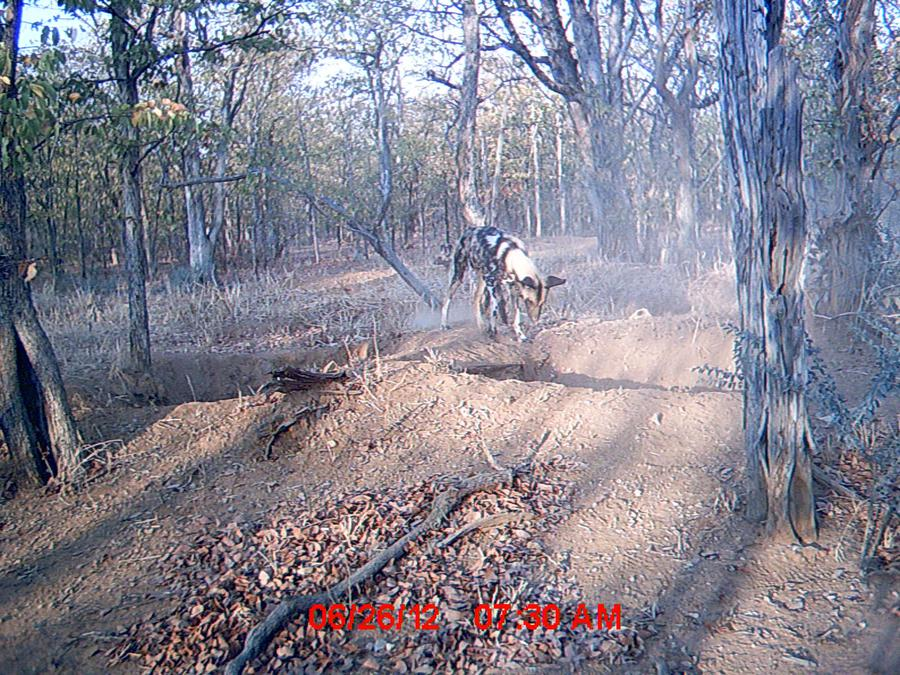wilddog: (439, 214, 560, 350)
